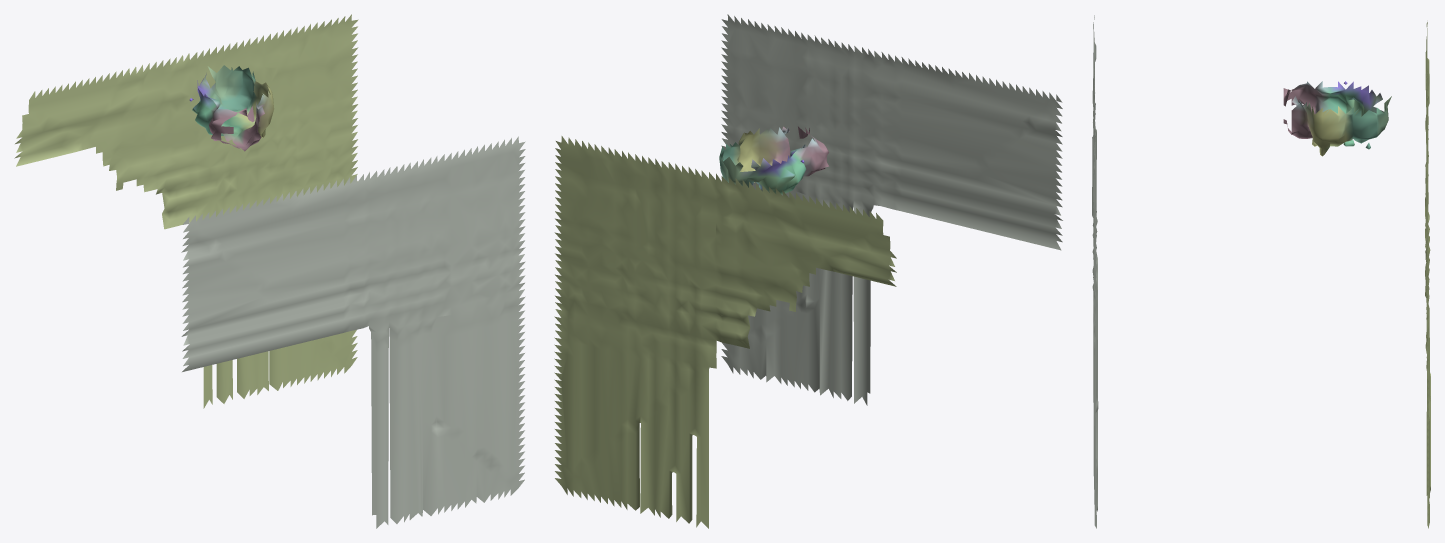
The model's file is tile_7e4ccbd5fe0e_0_-1_-1_0_lod1.glb.
3 renders of one model, left to right at view 1: azimuth 30°, elevation 25°; view 2: azimuth 150°, elevation 25°; view 3: azimuth 270°, elevation 25°, orthographic.
Bounding box in the file's own units: 4.08 × 4.08 × 3.5.
